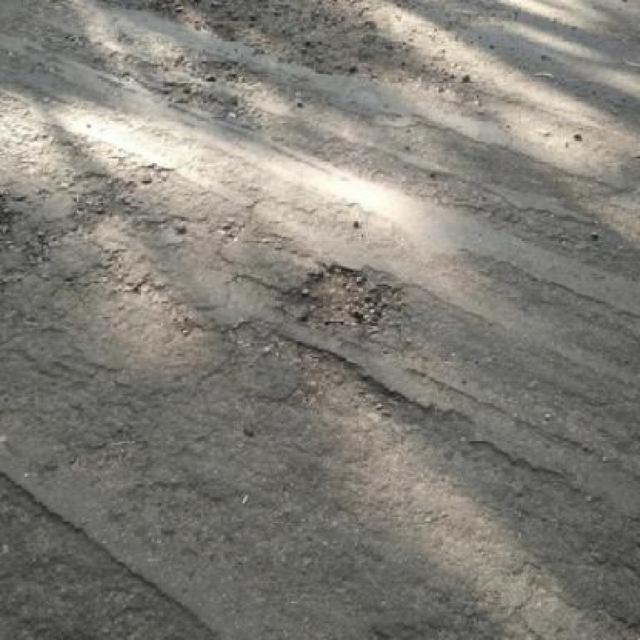pothole1: (282, 260, 406, 332)
